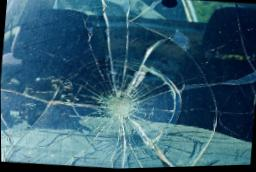Windshield: (0, 0, 256, 169)
